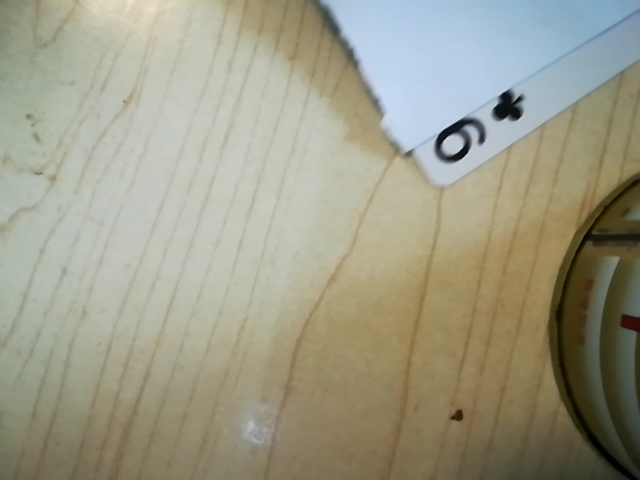mh 9: (417, 82, 537, 177)
